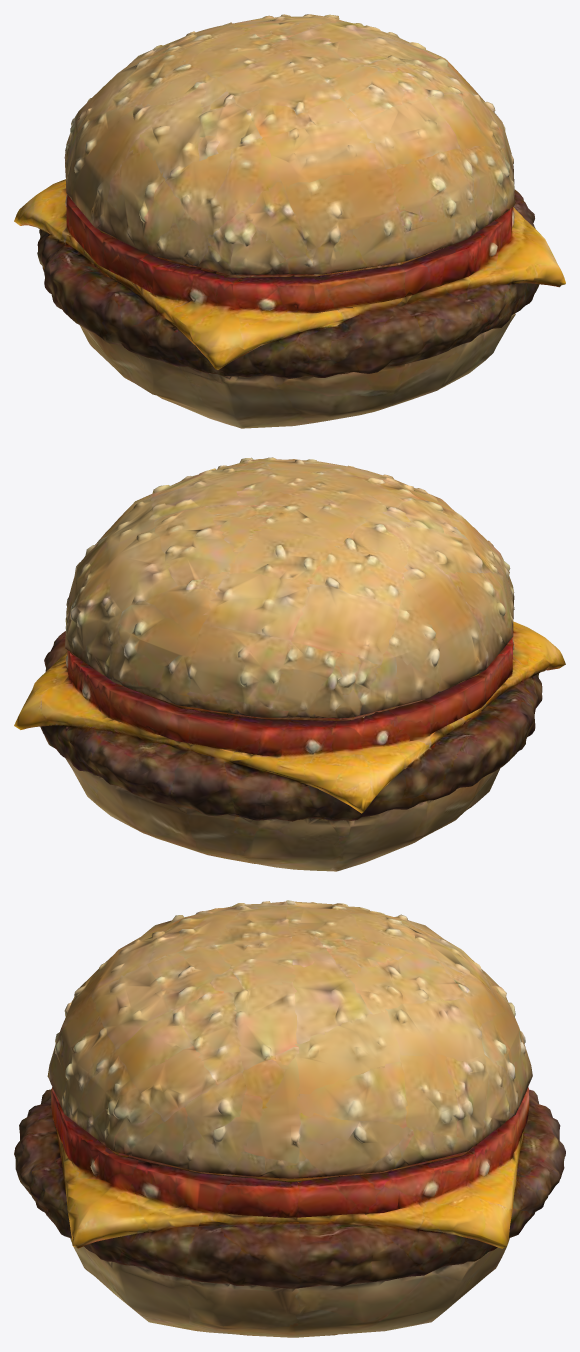
3 views of the same model, one above another, from view 1: azimuth 30°, elevation 25°; view 2: azimuth 150°, elevation 25°; view 3: azimuth 270°, elevation 25° (orthographic). The views are drawn at different scales.
Size of the model in its own units: 1.89 by 1.37 by 1.9.
Materials: 1 (1 with a texture image).
